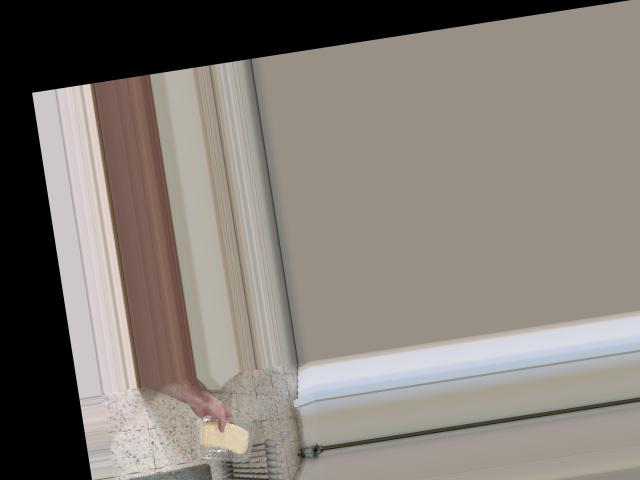cheese: (193, 412, 257, 461)
